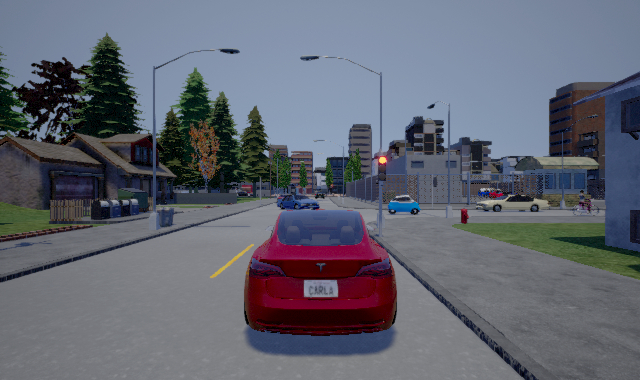bike: (572, 190, 600, 217)
traffic_light: (378, 155, 386, 180)
vehicle: (243, 208, 397, 336), (474, 194, 550, 212), (276, 193, 321, 212), (388, 195, 421, 215)
